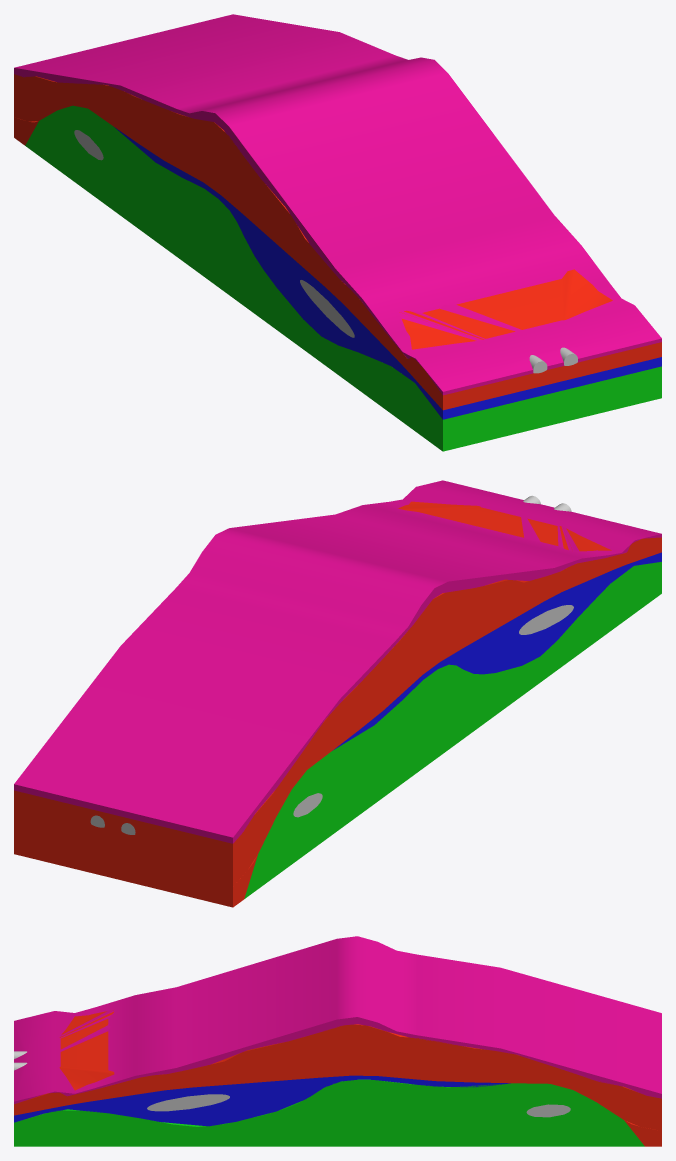
The picture shows the model from 3 angles, top to bottom: view 1: azimuth 30°, elevation 25°; view 2: azimuth 150°, elevation 25°; view 3: azimuth 270°, elevation 25°; orthographic projection. The views are drawn at different scales.
Parts seen in each view (by area): view 1: 3, 0, 2, 1, hole; view 2: 3, 2, 0, 1, hole; view 3: 3, 0, 2, 1, hole.
Boxes of the visible parts, bbox=[...] form: 3: bbox=[14, 14, 661, 395]; 0: bbox=[25, 105, 661, 451]; 2: bbox=[14, 74, 661, 410]; 1: bbox=[113, 126, 661, 419]; hole: bbox=[74, 130, 354, 337]; 3: bbox=[14, 480, 661, 843]; 2: bbox=[14, 501, 661, 907]; 0: bbox=[244, 562, 661, 898]; 1: bbox=[332, 552, 661, 750]; hole: bbox=[293, 605, 573, 817]; 3: bbox=[14, 936, 661, 1104]; 0: bbox=[14, 1079, 644, 1146]; 2: bbox=[14, 1010, 661, 1146]; 1: bbox=[14, 1075, 510, 1126]; hole: bbox=[147, 1094, 570, 1117].
Bounding box in the file's own units: 180 × 135 × 610.
